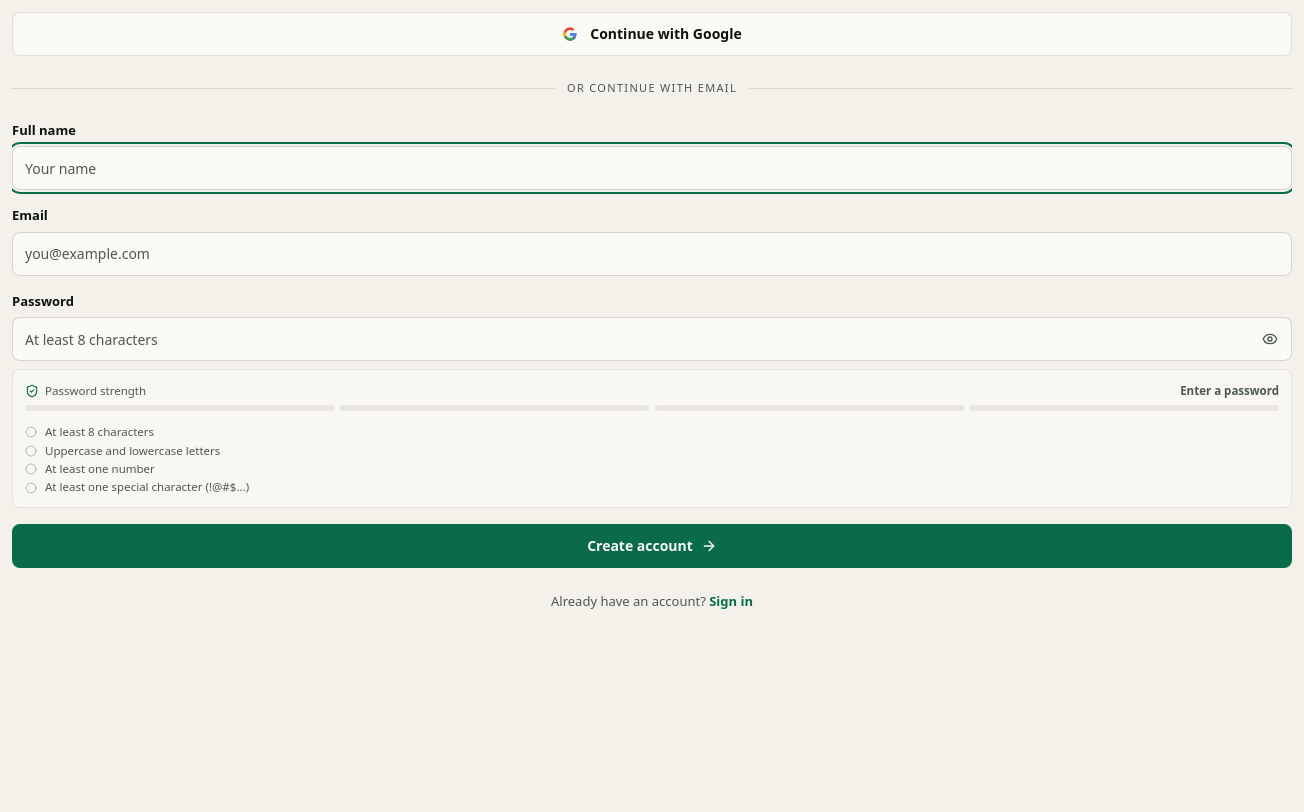
Scenario: AuthForm Component (covers: Hardening Zod Password & Email UI) › provides real-time email validation feedback for disposable domains
This screenshot has width=1304, height=812.
# Enter disposable email and blur
Type "user@mailinator.com" into the field labelled "Email". click: {"x": 652, "y": 254}
box: [12, 232, 1292, 276]
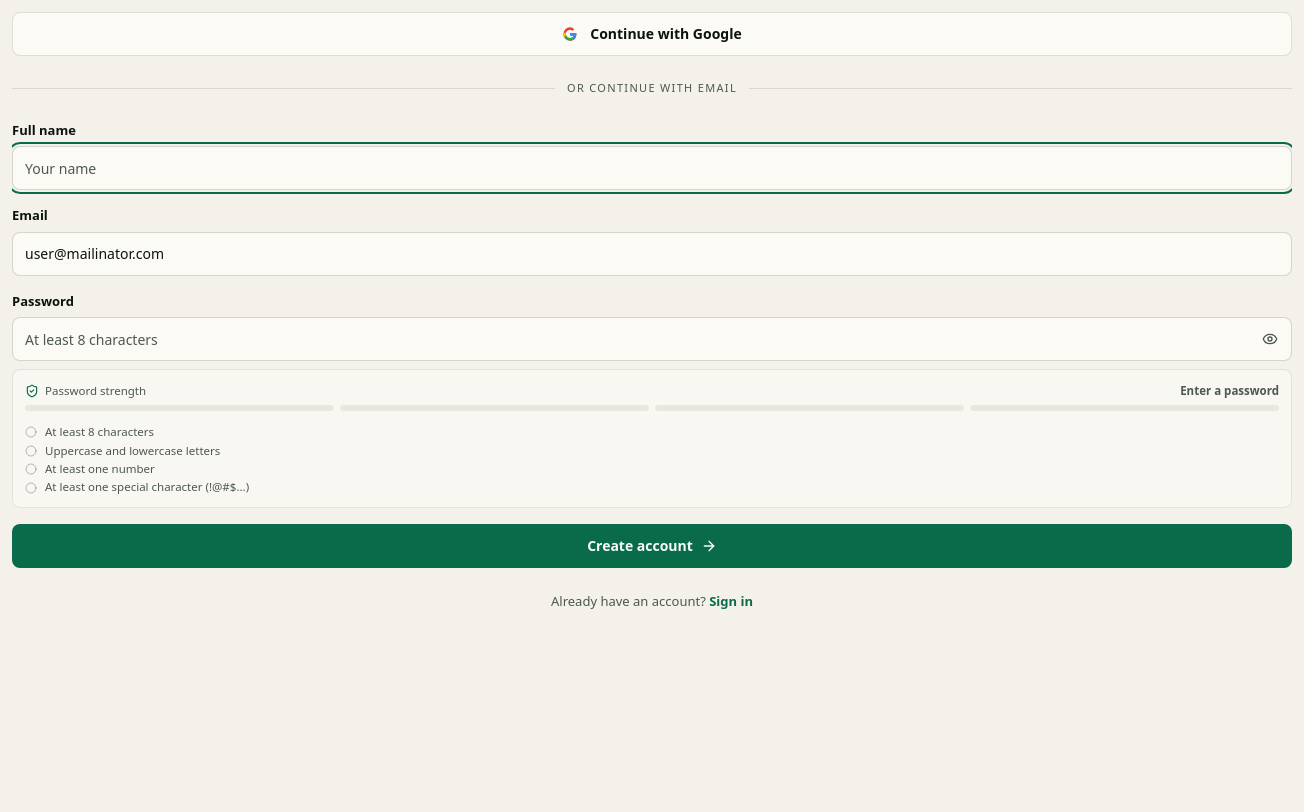
Leave the field labelled "Email", box [12, 232, 1292, 276]
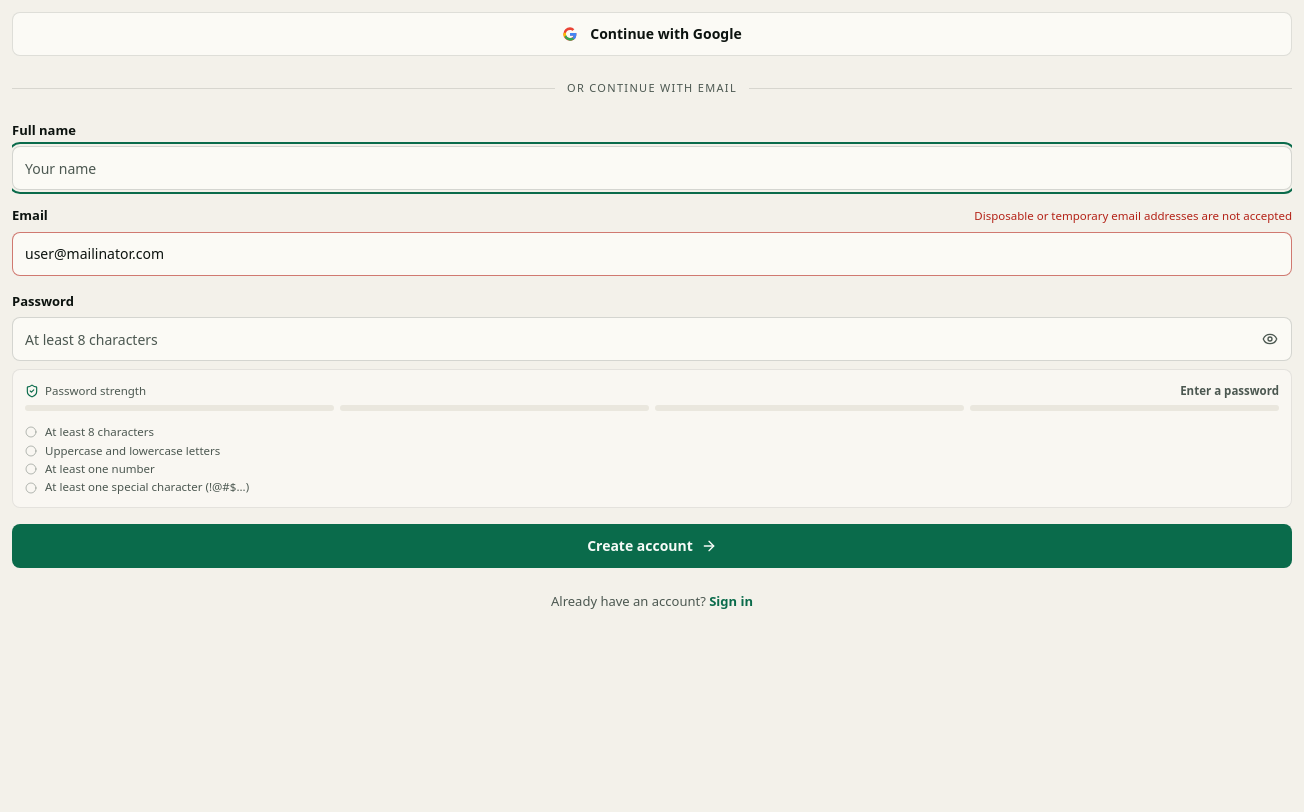
Now the text "Disposable or temporary email addresses are not accepted" is shown, box [974, 207, 1292, 224]
# Enter valid email
Replace the text in the field labelled "Email" with "valid.user@careercraft.ai". click: {"x": 652, "y": 254}
box: [12, 232, 1292, 276]
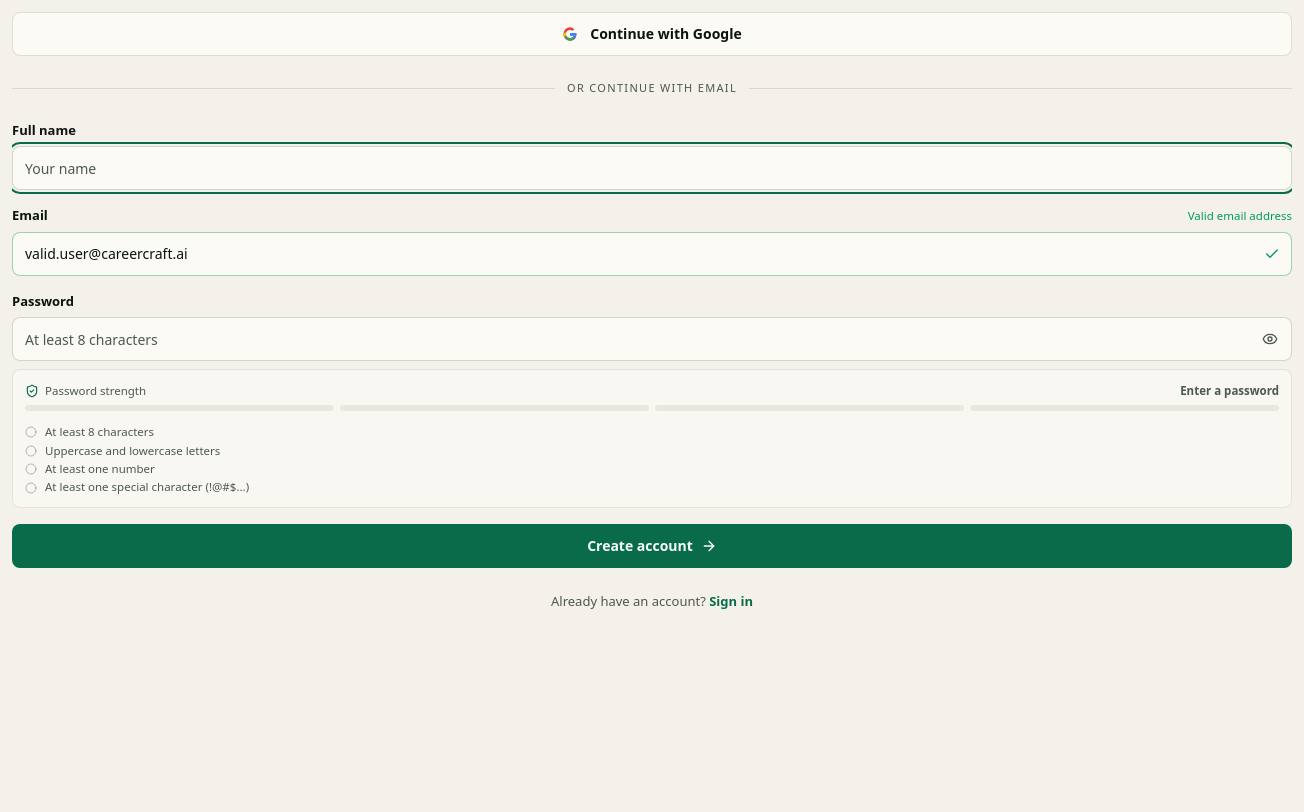
Now the text "Valid email address" is shown, box [1188, 207, 1292, 224]
